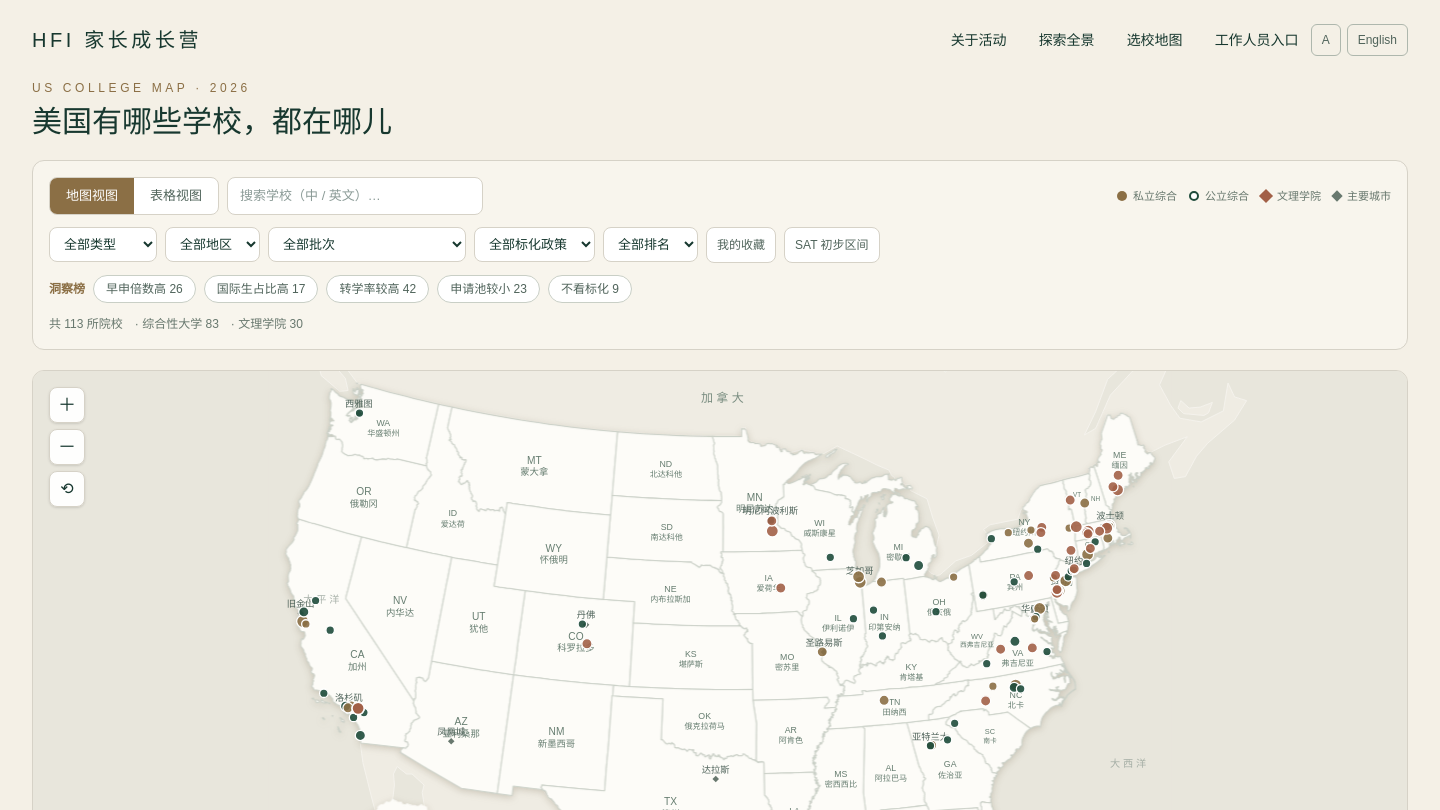
Test: /colleges 的详情栏显隐 › 切到表格视图 → 详情栏消失，表格铺满整行
The width and height of the screenshot is (1440, 810).
Click the button "表格视图" at (176,196), box [134,178,218,214]
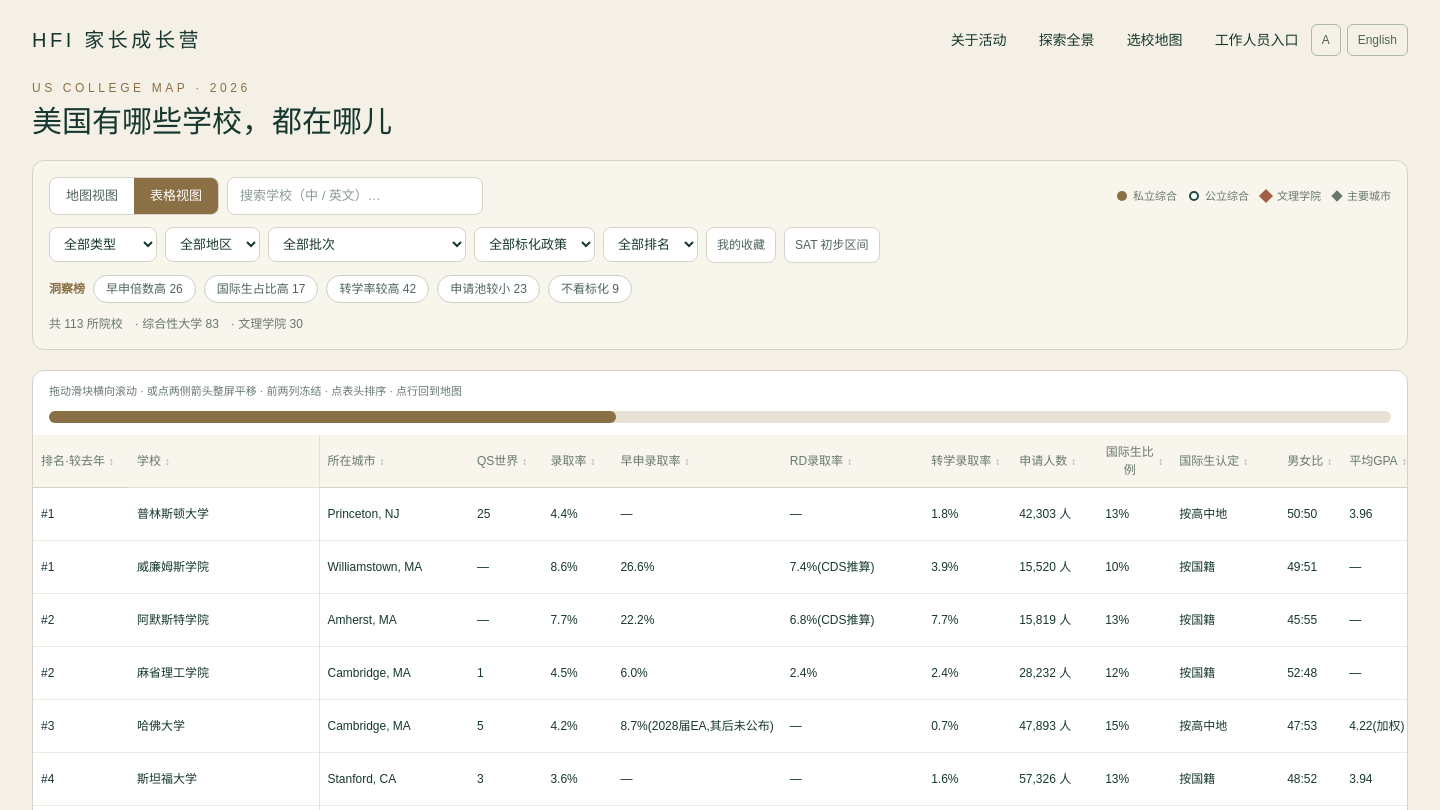
expect the text "拖动滑块横向滚动 · 或点两侧箭头整屏平移 · 前两列冻结 · 点表头排序 · 点行回到地图" is shown: met, box [49,384,462,396]
